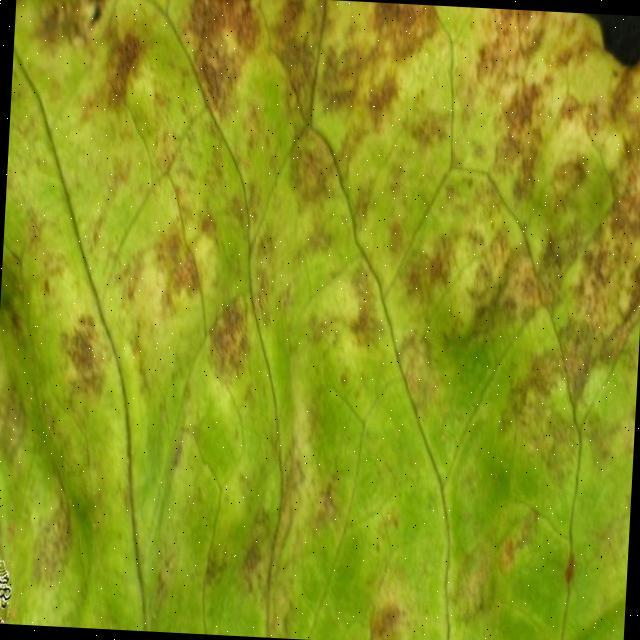Septoria_Blight_on_lettuce: (13, 4, 640, 549)
